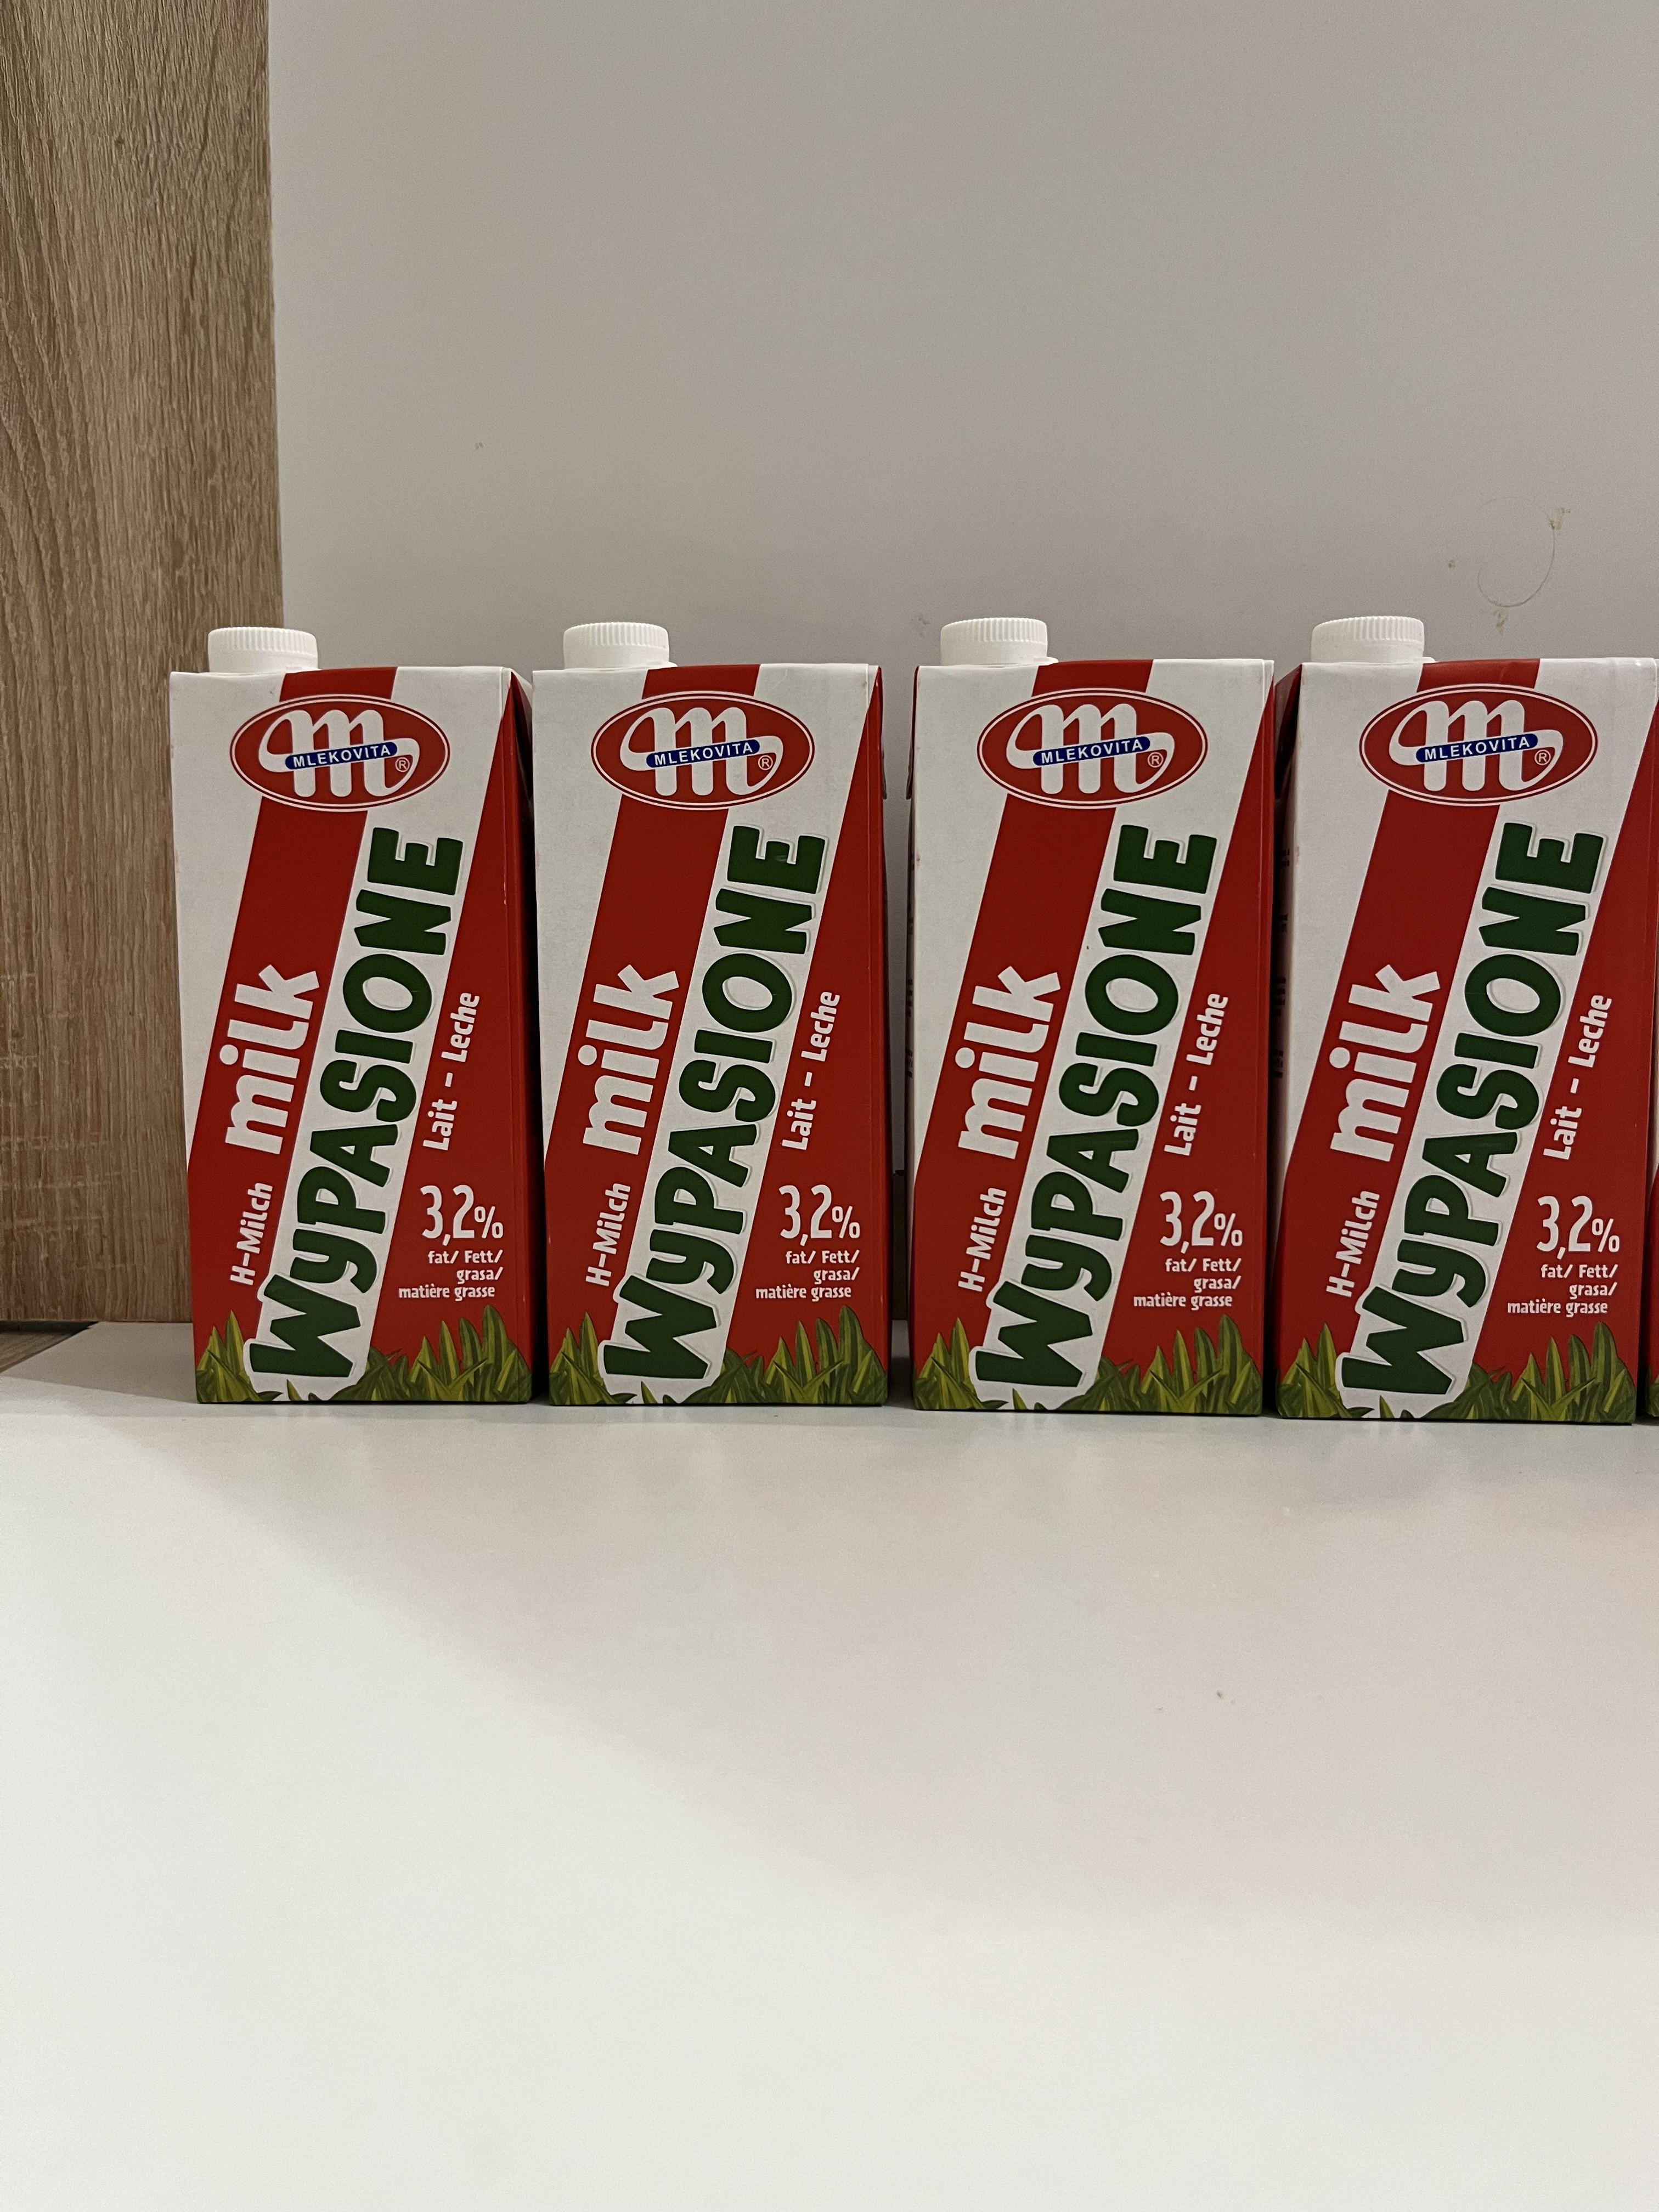Milk: (528, 648, 904, 1404), (171, 653, 542, 1409), (1298, 676, 1659, 1435), (922, 655, 1270, 1432)
